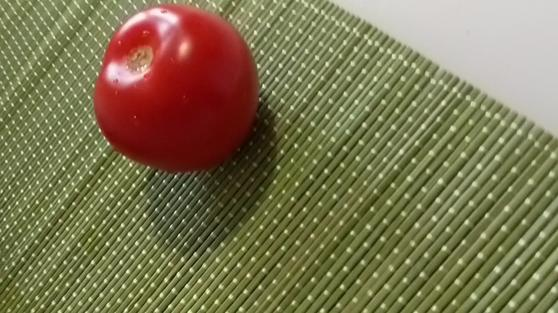tomato: (94, 6, 259, 172)
